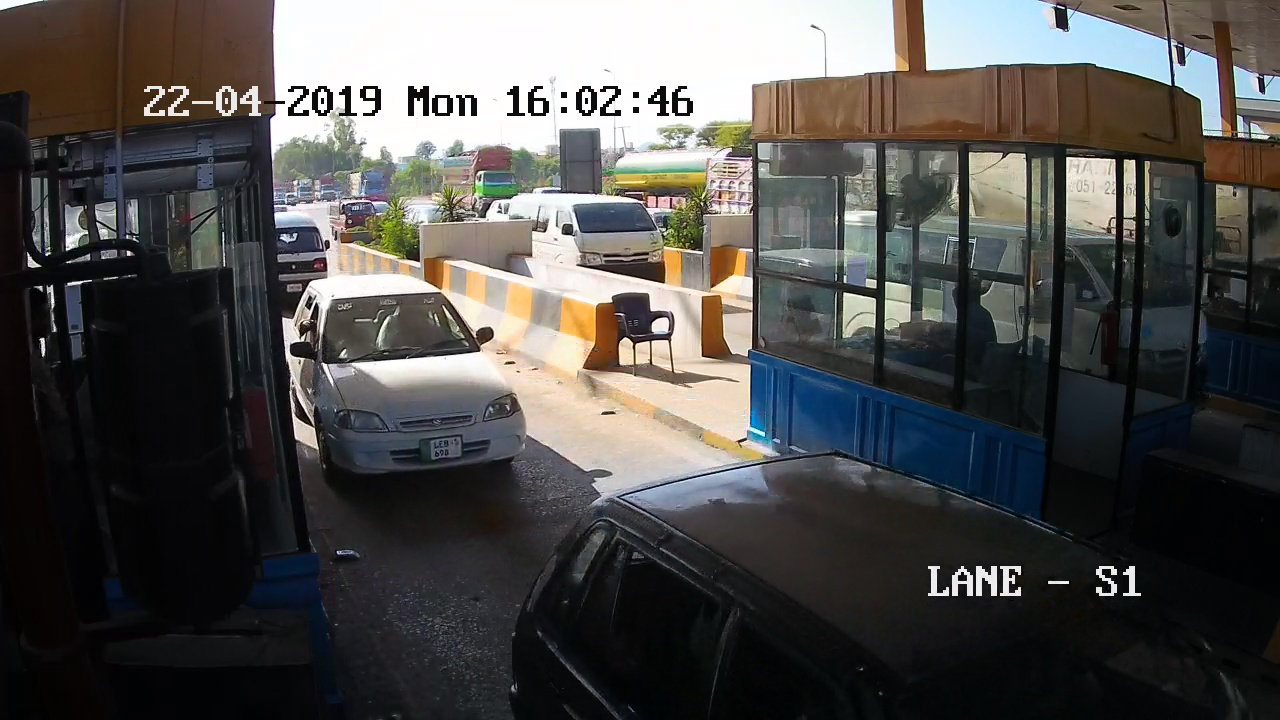Number Plate (Car): (418, 434, 464, 463)
